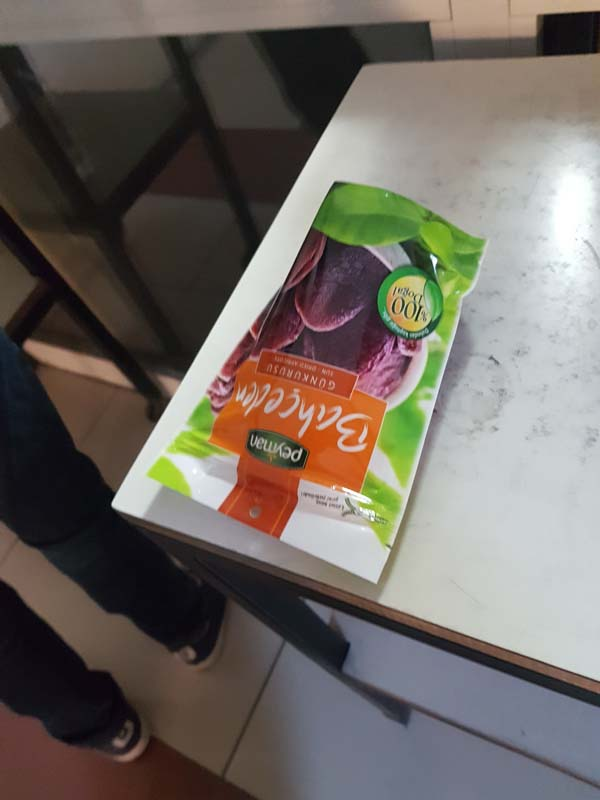bahcedengunkurusu: (155, 180, 488, 583)
